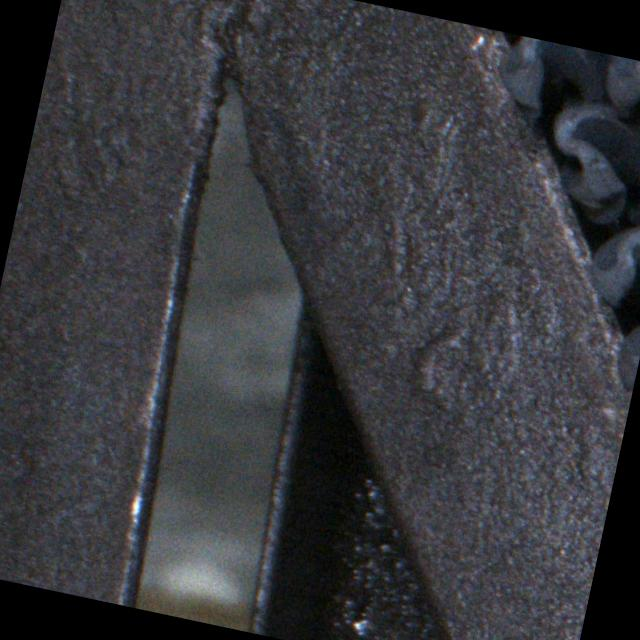tool_b: (536, 95, 640, 235), (488, 32, 618, 140), (581, 208, 640, 325), (596, 55, 640, 138)
